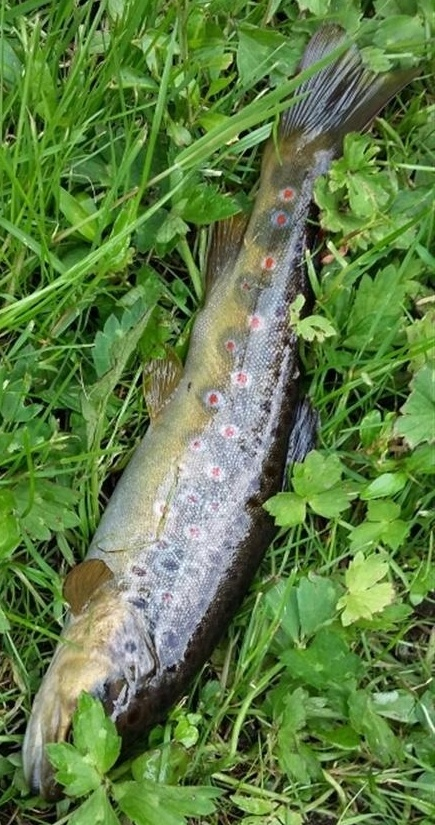Salmo trutta subsp. fario: (20, 20, 424, 805)
